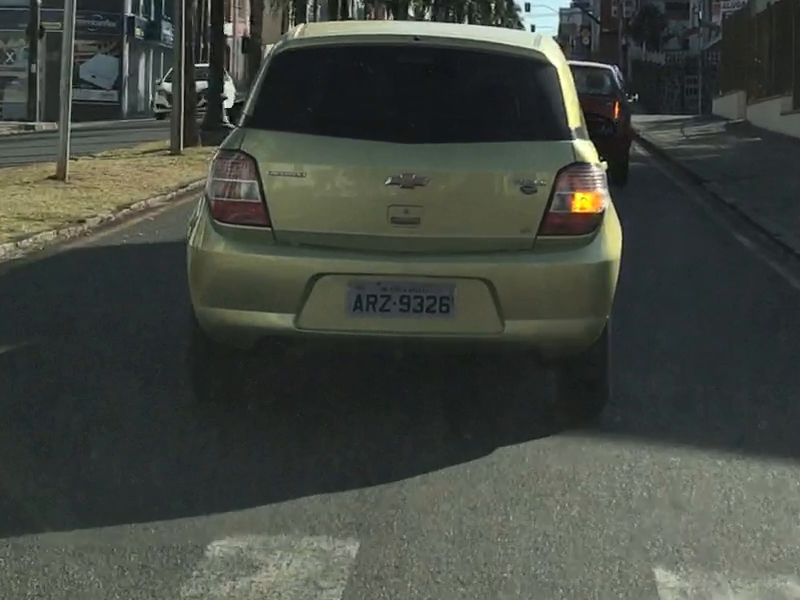placa: (345, 281, 456, 319)
